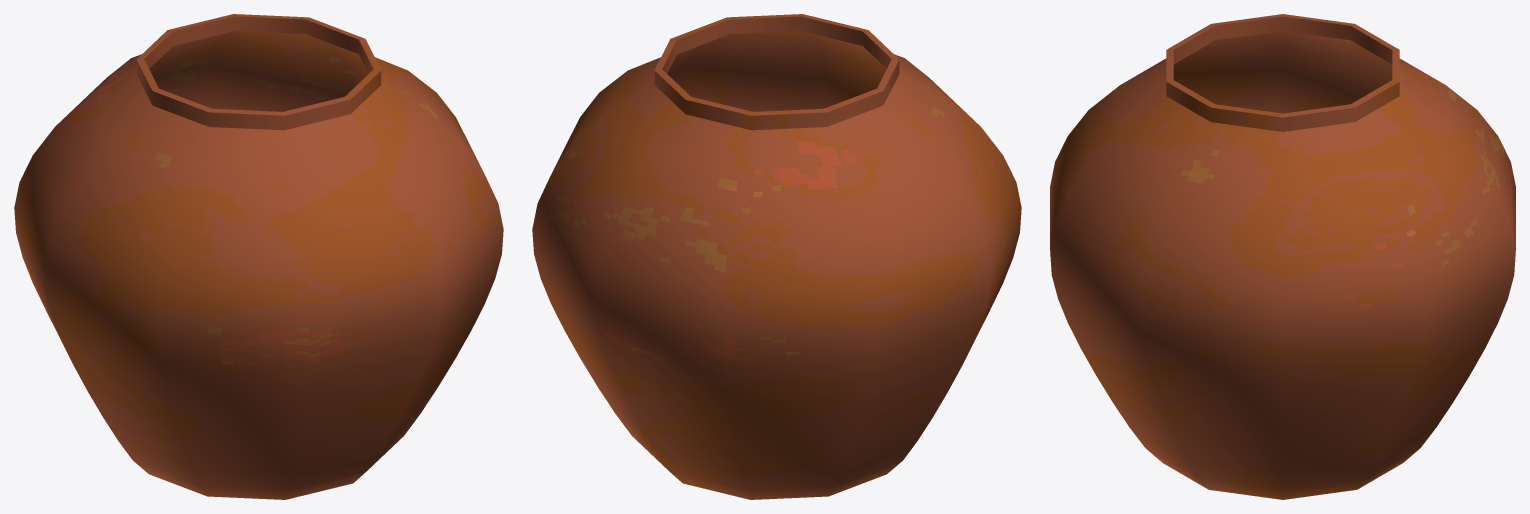
The model's file is pot2.gltf.
3 views of the same model, side by side, from view 1: azimuth 30°, elevation 25°; view 2: azimuth 150°, elevation 25°; view 3: azimuth 270°, elevation 25° (orthographic).
Parts seen in each view (by area): view 1: pot2-col; view 2: pot2-col; view 3: pot2-col.
Part boxes in pixels (left/top/right/bottom): pot2-col: left=14, top=14, right=503, bottom=499; pot2-col: left=532, top=14, right=1021, bottom=499; pot2-col: left=1050, top=14, right=1515, bottom=499.
Bounding box in the file's own units: 0.4913 × 0.4497 × 0.4672.
1 material, 1 textured.
